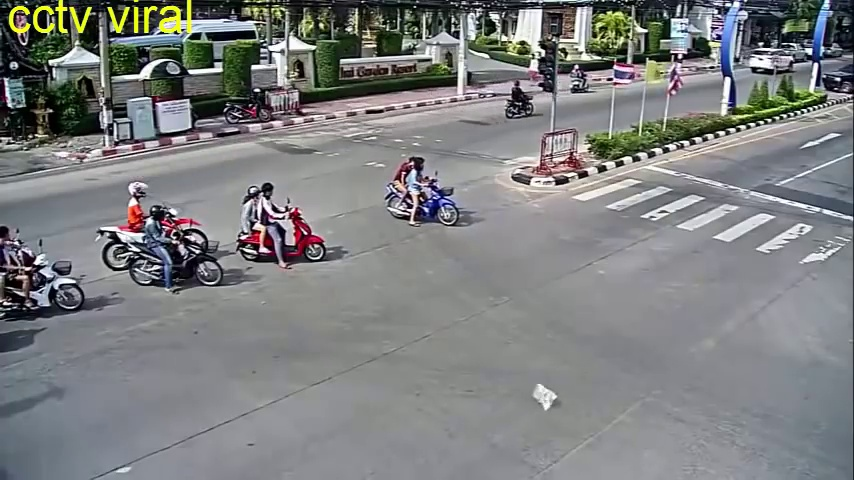car: (750, 45, 797, 76)
motorbike: (100, 177, 209, 283), (240, 186, 328, 269), (129, 209, 221, 284), (1, 241, 85, 314), (387, 154, 464, 232), (505, 83, 536, 120), (571, 62, 587, 93)
